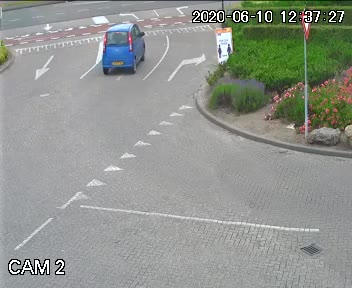car: (102, 18, 145, 83)
